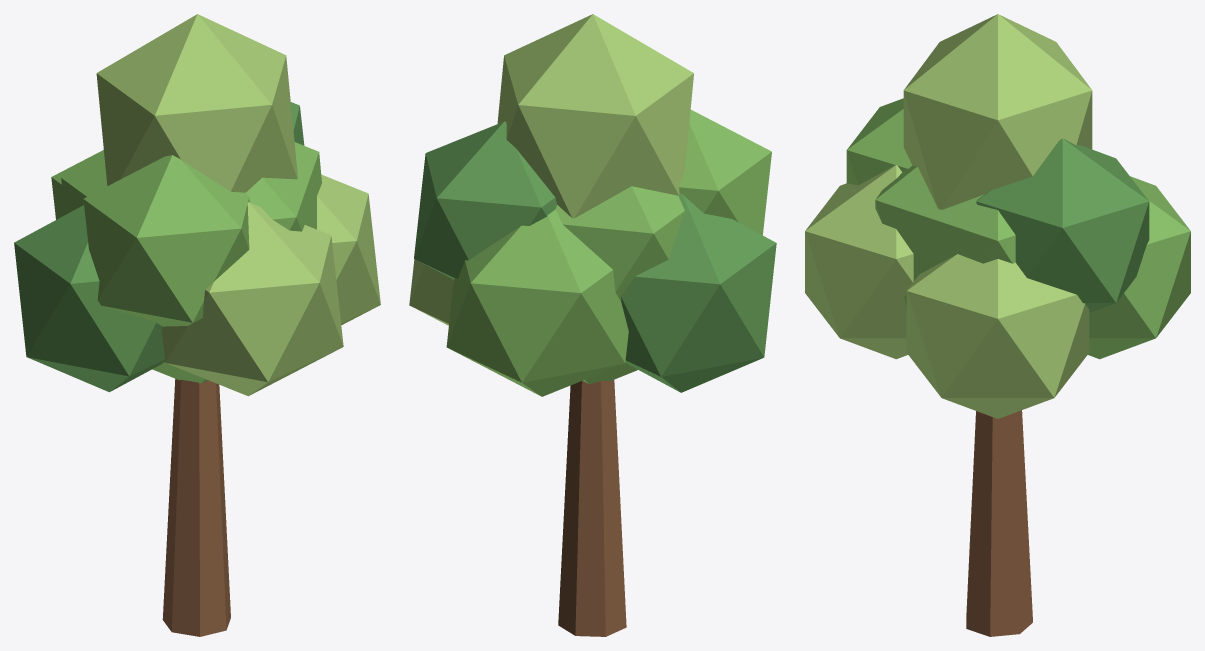
Rendered from Tree_01.fbx.
3 views of the same model, side by side, from view 1: azimuth 30°, elevation 25°; view 2: azimuth 150°, elevation 25°; view 3: azimuth 270°, elevation 25° (orthographic).
Parts seen in each view (by area): view 1: Foliage_Top, Foliage_Side_4, Foliage_Side_6, Foliage_Side_2, Tree_Trunk, Foliage_Side_1, Foliage_Central, Foliage_Side_3; view 2: Foliage_Top, Foliage_Side_3, Foliage_Side_2, Tree_Trunk, Foliage_Side_5, Foliage_Central, Foliage_Side_6, Foliage_Side_1; view 3: Foliage_Top, Foliage_Side_1, Foliage_Side_5, Foliage_Side_4, Tree_Trunk, Foliage_Side_3, Foliage_Central, Foliage_Side_6.
Part boxes in pixels (x1,y1,x2,y2): Foliage_Top: (96, 14, 297, 192); Foliage_Side_4: (161, 202, 343, 396); Foliage_Side_6: (83, 155, 249, 326); Foliage_Side_2: (14, 205, 164, 392); Tree_Trunk: (162, 379, 230, 636); Foliage_Side_1: (317, 174, 380, 325); Foliage_Central: (61, 142, 321, 383); Foliage_Side_3: (51, 150, 104, 219); Foliage_Top: (497, 14, 693, 218); Foliage_Side_3: (446, 209, 628, 396); Foliage_Side_2: (621, 193, 776, 392); Tree_Trunk: (558, 380, 626, 636); Foliage_Side_5: (414, 121, 556, 279); Foliage_Central: (555, 186, 684, 384); Foliage_Side_6: (679, 109, 771, 235); Foliage_Side_1: (409, 259, 453, 325); Foliage_Top: (903, 14, 1092, 209); Foliage_Side_1: (906, 254, 1089, 418); Foliage_Side_5: (976, 138, 1149, 312); Foliage_Side_4: (805, 165, 913, 359); Tree_Trunk: (966, 410, 1032, 636); Foliage_Side_3: (1088, 176, 1190, 359); Foliage_Central: (875, 165, 1015, 310); Foliage_Side_6: (846, 98, 912, 185).
Bounding box in the file's own units: 2.14 × 3.63 × 2.09.
